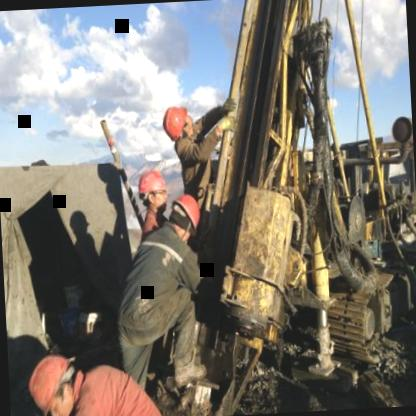helmet: (20, 341, 93, 416), (164, 191, 206, 244), (134, 168, 169, 214), (162, 104, 194, 147)
